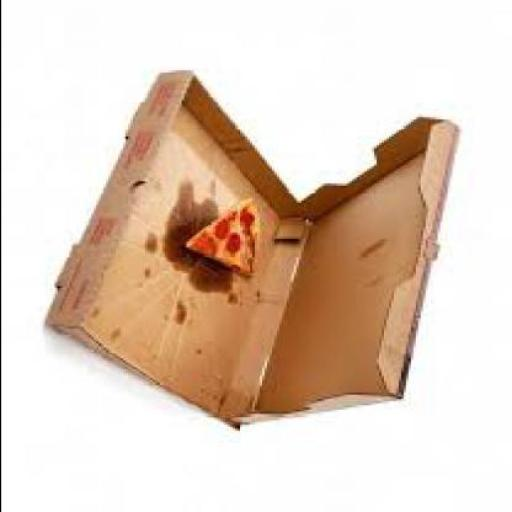biodegradable: (184, 196, 264, 273)
cardboard: (51, 70, 463, 427), (48, 66, 310, 426), (237, 115, 461, 423)
